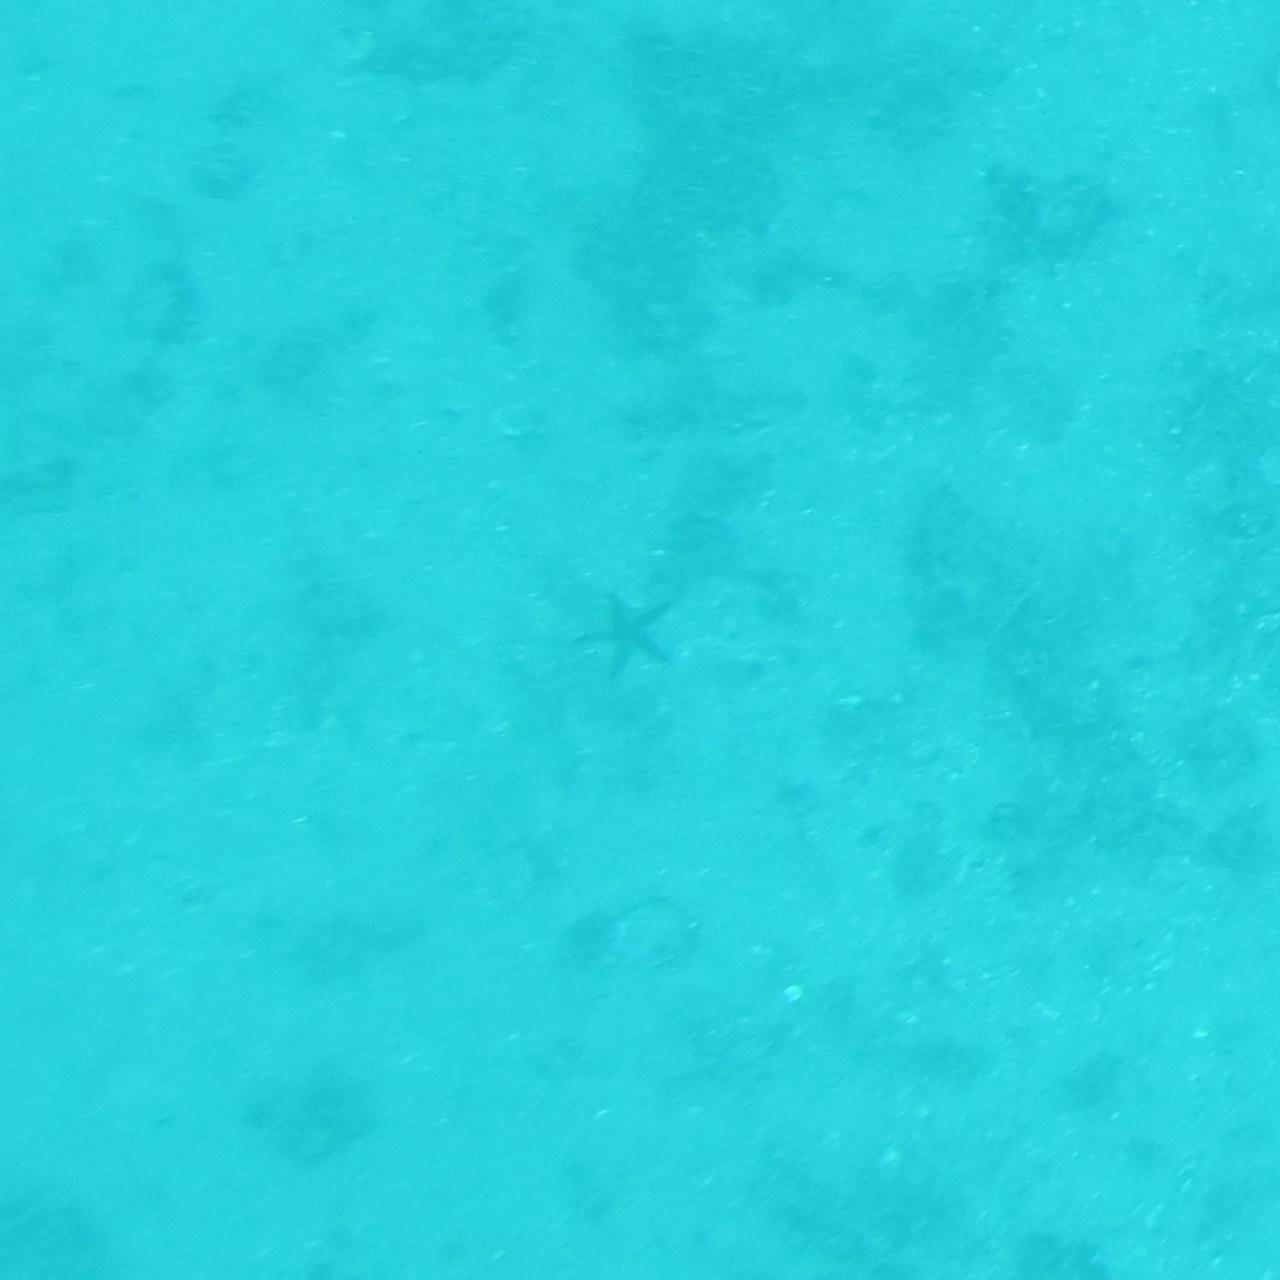Asteroidea: (570, 578, 710, 702)
